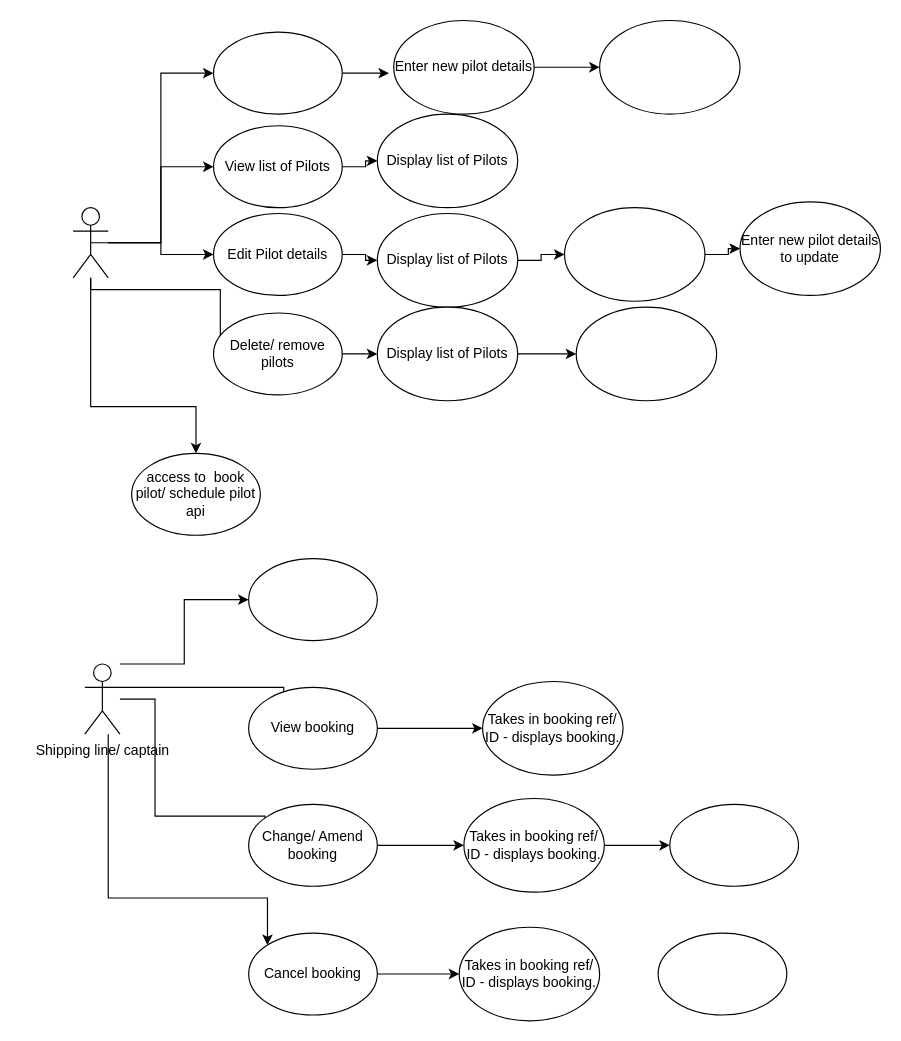
Some shapes in this 901 by 1041 pixel diagram are drawn without their labels. The box of each missing label's shape, as (x1, y1, x2, y2) in pixels:
Add new pilot: (212, 31, 342, 114)
Adds pilot to backend (list): (598, 19, 740, 114)
Book pilot: (247, 558, 377, 641)
changes booking to 'CANCELED': (657, 932, 787, 1015)
Harbour Master Admin: (72, 207, 108, 278)
request change: (669, 803, 799, 886)
Select Pilot to delete: (575, 306, 717, 401)
Select Pilot to modify: (563, 207, 705, 301)
